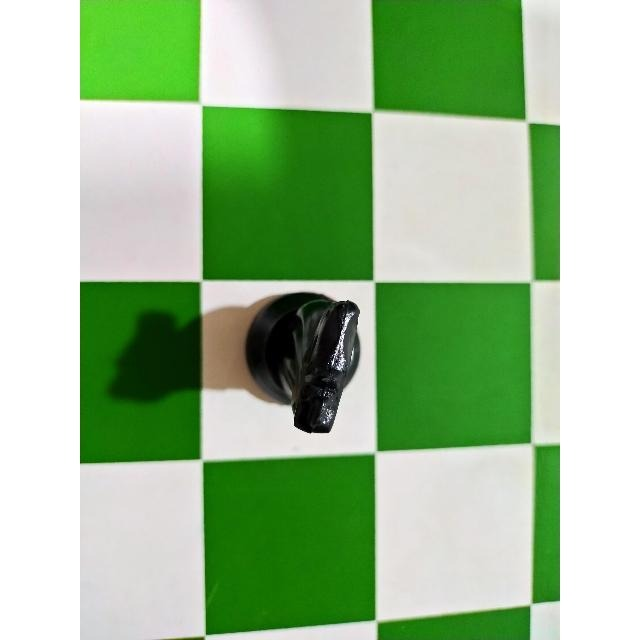black-knight: (234, 281, 372, 439)
